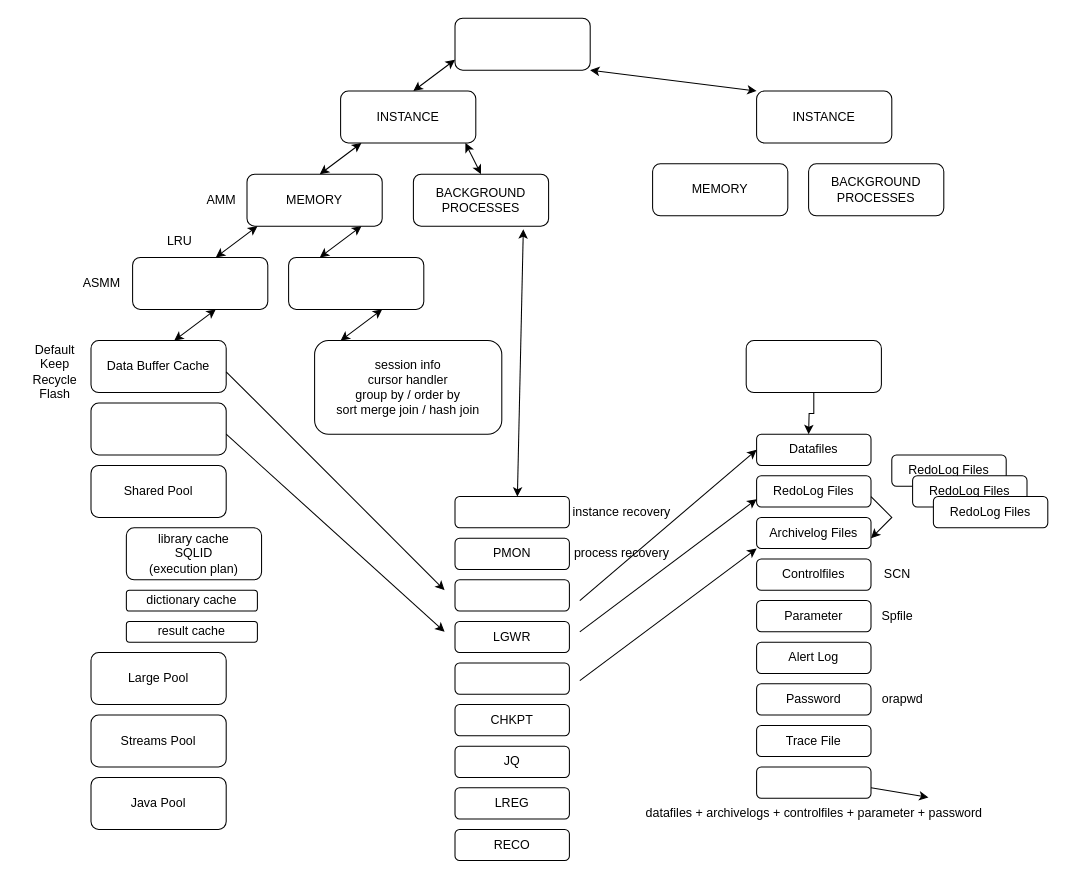
The diagram is 1066 pixels wide and 879 high, and some of its shapes have lost their labels. The shapes that lost their labels are listed below. From the top down, each one's centre as x and y in pixels, then its label:
At (522,43): "DATABASE orclcdb".
At (200,282): "SGA (Shared Global Area)".
At (356,282): "PGA (P ersonal Global Area)".
At (813,366): "Physical Files (ASM)".
At (158,428): "Log Buffer Cache".
At (511,512): "SMON".
At (511,595): "DBWR".
At (511,678): "ARCH".
At (813,782): "Backup Files".
